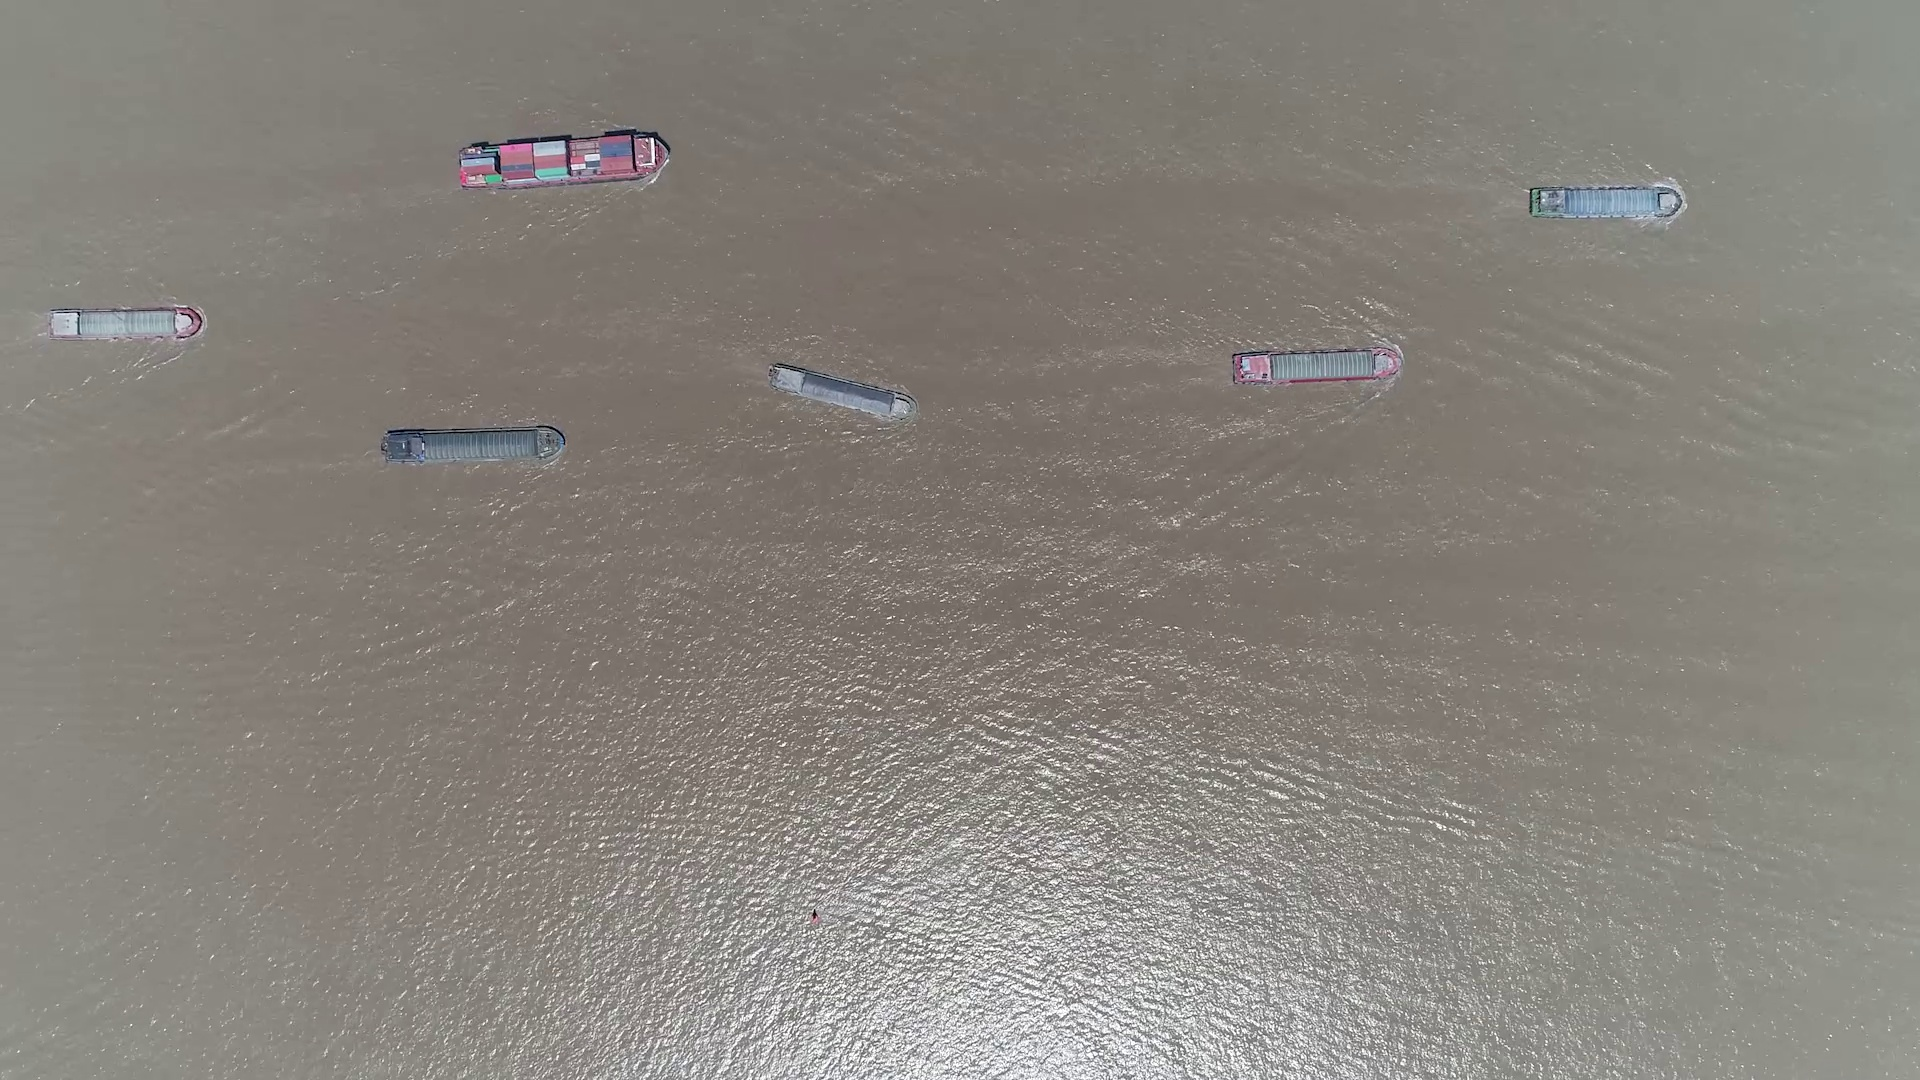ship: (458, 133, 667, 190), (767, 363, 914, 421), (381, 426, 560, 464), (1232, 348, 1402, 386), (44, 309, 200, 339), (1531, 189, 1676, 220)
